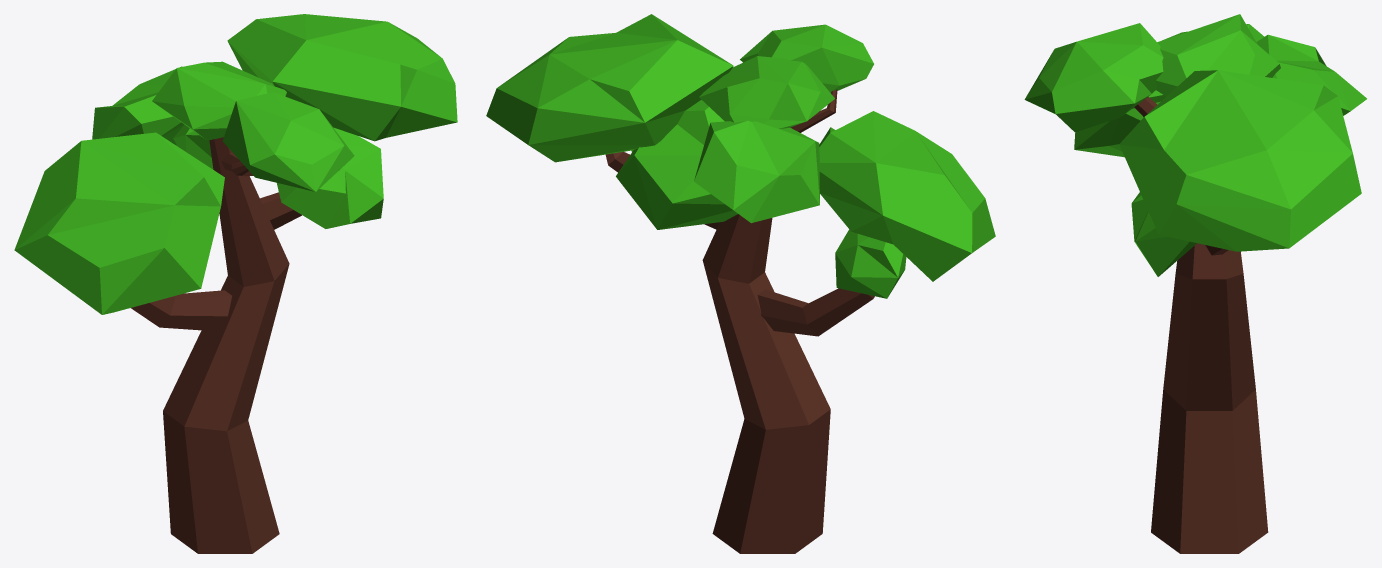
Rendered from Tree.fbx.
3 renders of one model, left to right at view 1: azimuth 30°, elevation 25°; view 2: azimuth 150°, elevation 25°; view 3: azimuth 270°, elevation 25°, orthographic. The views are drawn at different scales.
Visible parts, largest first — view 1: Cylinder; view 2: Cylinder; view 3: Cylinder.
Part boxes in pixels (bbox=[...]): Cylinder: bbox=[14, 14, 457, 553]; Cylinder: bbox=[486, 14, 995, 553]; Cylinder: bbox=[1024, 14, 1366, 553].
Bounding box in the file's own units: 950 × 953 × 585.
